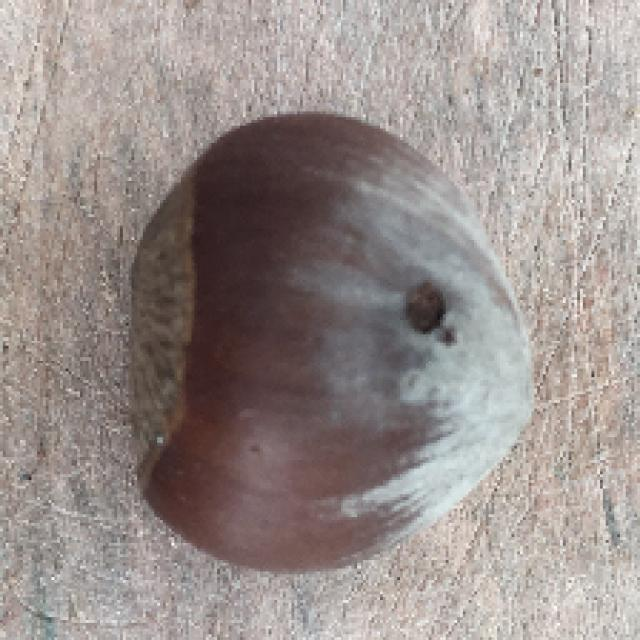damagedHazelnut: (115, 106, 546, 584)
